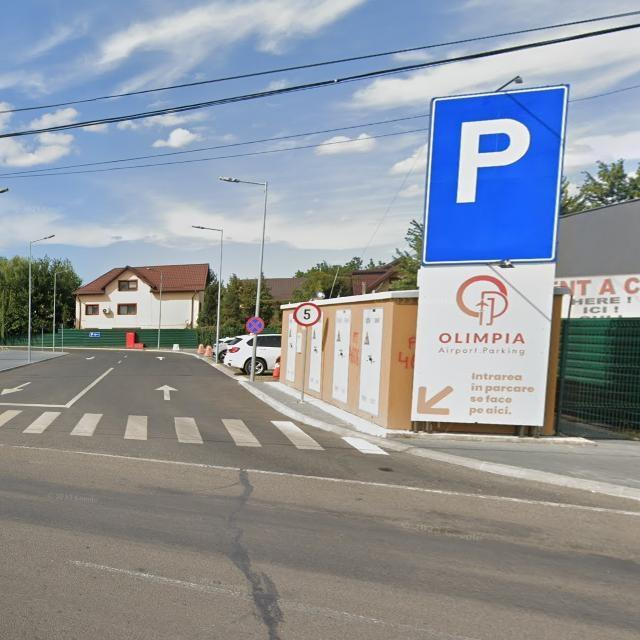forb_waiting: (246, 316, 264, 334)
